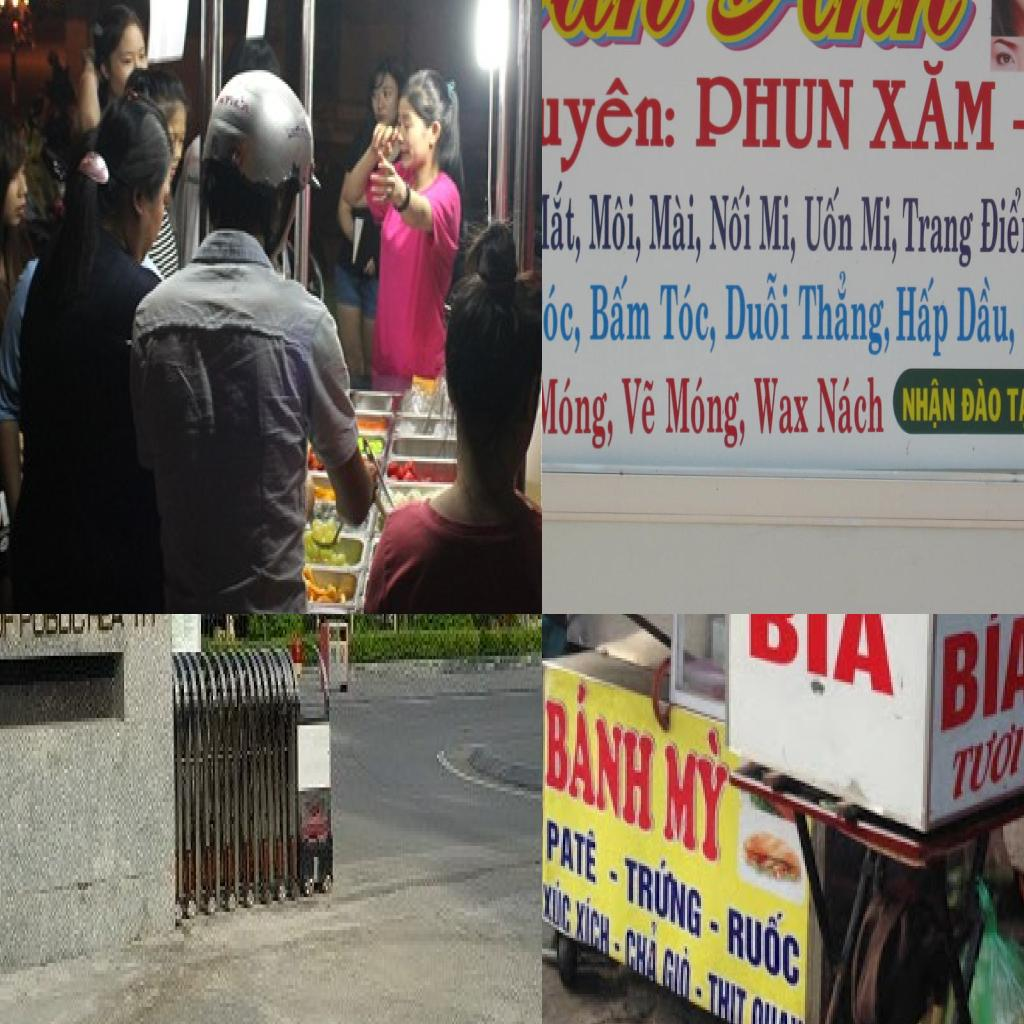text: (542, 663, 661, 833), (542, 67, 678, 174), (696, 0, 983, 50), (737, 614, 897, 697), (659, 703, 737, 869), (694, 74, 856, 153), (868, 60, 999, 152), (935, 614, 1024, 737), (623, 842, 707, 946), (795, 268, 893, 354), (725, 890, 805, 991), (947, 716, 1024, 807), (663, 376, 752, 450), (903, 196, 973, 272), (954, 274, 1018, 357), (542, 378, 614, 449), (723, 271, 790, 343), (545, 807, 603, 890), (587, 271, 652, 342), (658, 280, 720, 354), (897, 274, 949, 362), (816, 375, 886, 435), (588, 191, 643, 265), (648, 193, 703, 267), (542, 177, 581, 265), (753, 376, 810, 435), (979, 180, 1024, 254), (804, 187, 854, 252), (708, 185, 753, 254), (542, 281, 582, 355), (758, 194, 797, 269), (902, 380, 957, 432), (623, 909, 659, 986), (860, 194, 898, 263), (575, 890, 613, 959), (542, 868, 577, 940), (705, 967, 749, 1024), (659, 935, 695, 1002), (749, 988, 809, 1024), (622, 378, 657, 439), (960, 377, 1004, 422), (19, 614, 88, 641), (86, 614, 158, 634), (1006, 385, 1024, 429), (0, 614, 16, 641)
